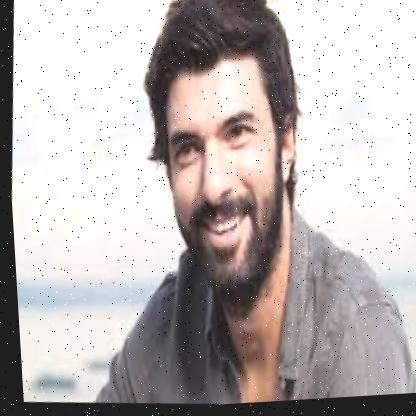person: (123, 0, 318, 322)
